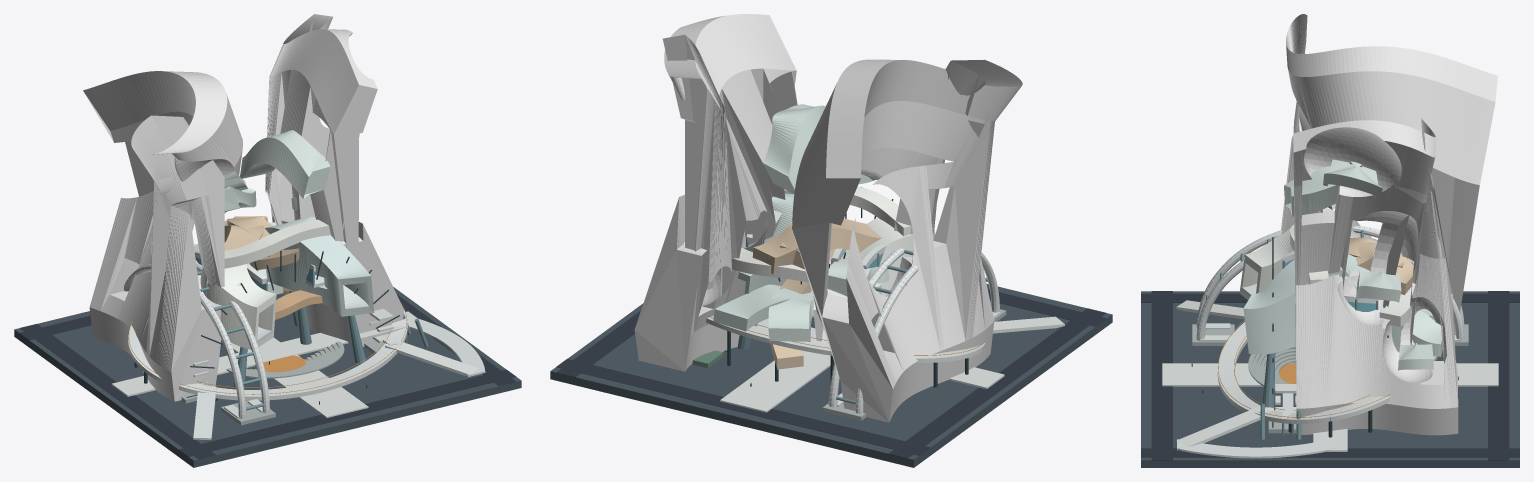
The model's file is a15_b_split_tide_urban_shells.glb.
The picture shows the model from 3 angles, left to right: view 1: azimuth 30°, elevation 25°; view 2: azimuth 150°, elevation 25°; view 3: azimuth 270°, elevation 25°; orthographic projection. The views are drawn at different scales.
Visible parts, largest first — view 1: A11_WEST_FAULT_ESCARPMENT_REAL_VOID, A11_EAST_SKY_FOLD_REAL_VOID, District base, A10_EAST_INHABITED_TIDAL_SHELL, A11_EAST_OCCUPIED_STRATUM_2, Continuous elliptical public promenade, A10_WEST_INHABITED_FAULT_SHELL, E-W road, N-S road, Public ground, continuous E-W axis, A11_HIGH_CREST_TRANSECT, Public ground, continuous N-S axis (+12 smaller); view 2: A11_WEST_FAULT_ESCARPMENT_REAL_VOID, A11_EAST_SKY_FOLD_REAL_VOID, District base, E-W road.001, N-S road, A11_EAST_OCCUPIED_STRATUM_2, Public ground, continuous N-S axis, A11_WEST_OCCUPIED_STRATUM_0, A11_EAST_OCCUPIED_STRATUM_0, A10_WEST_INHABITED_FAULT_SHELL, Continuous elliptical public promenade, A11_WEST_OCCUPIED_STRATUM_1 (+10 smaller); view 3: A11_EAST_SKY_FOLD_REAL_VOID, A11_WEST_FAULT_ESCARPMENT_REAL_VOID, District base, A10_EAST_INHABITED_TIDAL_SHELL, E-W road.001, E-W road, Continuous elliptical public promenade, Public ground, continuous N-S axis, N-S road.001, A10_WEST_INHABITED_FAULT_SHELL, A7_APPROACH_CURVED_DECK, A11_EAST_OCCUPIED_STRATUM_2 (+12 smaller).
Part boxes in pixels (<box>): A11_WEST_FAULT_ESCARPMENT_REAL_VOID: <box>83,71,242,401</box>; A11_EAST_SKY_FOLD_REAL_VOID: <box>265,14,404,346</box>; District base: <box>14,287,521,467</box>; A10_EAST_INHABITED_TIDAL_SHELL: <box>265,216,374,316</box>; A11_EAST_OCCUPIED_STRATUM_2: <box>240,130,330,198</box>; Continuous elliptical public promenade: <box>128,310,407,400</box>; A10_WEST_INHABITED_FAULT_SHELL: <box>200,264,276,349</box>; E-W road: <box>178,369,516,456</box>; N-S road: <box>20,324,215,459</box>; Public ground, continuous E-W axis: <box>111,311,417,396</box>; A11_HIGH_CREST_TRANSECT: <box>224,219,330,268</box>; Public ground, continuous N-S axis: <box>221,337,368,417</box>; A11_WEST_FAULT_ESCARPMENT_REAL_VOID: <box>792,59,1022,422</box>; A11_EAST_SKY_FOLD_REAL_VOID: <box>634,14,797,371</box>; District base: <box>550,284,1112,467</box>; E-W road.001: <box>556,359,930,455</box>; N-S road: <box>889,308,1106,458</box>; A11_EAST_OCCUPIED_STRATUM_2: <box>763,104,825,193</box>; Public ground, continuous N-S axis: <box>720,350,830,412</box>; A11_WEST_OCCUPIED_STRATUM_0: <box>768,288,814,341</box>; A11_EAST_OCCUPIED_STRATUM_0: <box>713,284,790,331</box>; A10_WEST_INHABITED_FAULT_SHELL: <box>813,217,935,341</box>; Continuous elliptical public promenade: <box>706,315,985,362</box>; A11_WEST_OCCUPIED_STRATUM_1: <box>780,218,881,269</box>; A11_EAST_SKY_FOLD_REAL_VOID: <box>1293,118,1458,435</box>; A11_WEST_FAULT_ESCARPMENT_REAL_VOID: <box>1281,14,1497,334</box>; District base: <box>1141,291,1519,467</box>; A10_EAST_INHABITED_TIDAL_SHELL: <box>1243,254,1403,354</box>; E-W road.001: <box>1488,291,1509,460</box>; E-W road: <box>1151,291,1172,460</box>; Continuous elliptical public promenade: <box>1217,322,1437,423</box>; Public ground, continuous N-S axis: <box>1162,363,1498,386</box>; N-S road.001: <box>1141,448,1519,457</box>; A10_WEST_INHABITED_FAULT_SHELL: <box>1239,228,1293,300</box>; A7_APPROACH_CURVED_DECK: <box>1177,439,1336,458</box>; A11_EAST_OCCUPIED_STRATUM_2: <box>1284,166,1382,222</box>.
Size of the model in its own units: 188 by 162 by 178.
